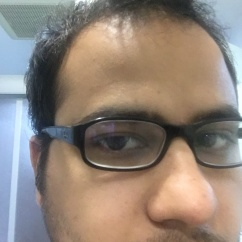glasses: (39, 116, 242, 166)
